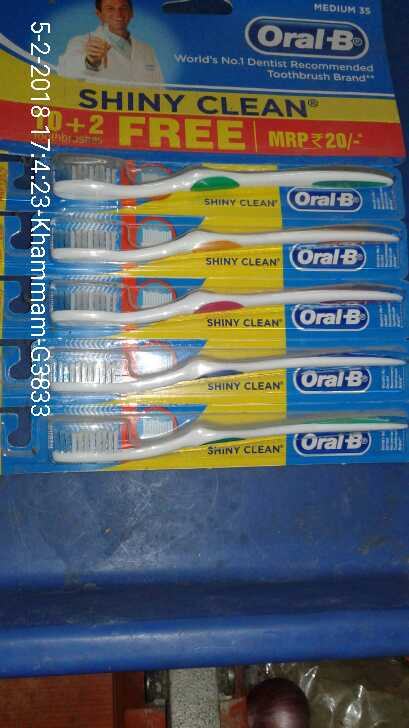oralb: (50, 150, 396, 214), (53, 209, 400, 261), (49, 277, 409, 327), (50, 413, 407, 461), (50, 338, 409, 385)
